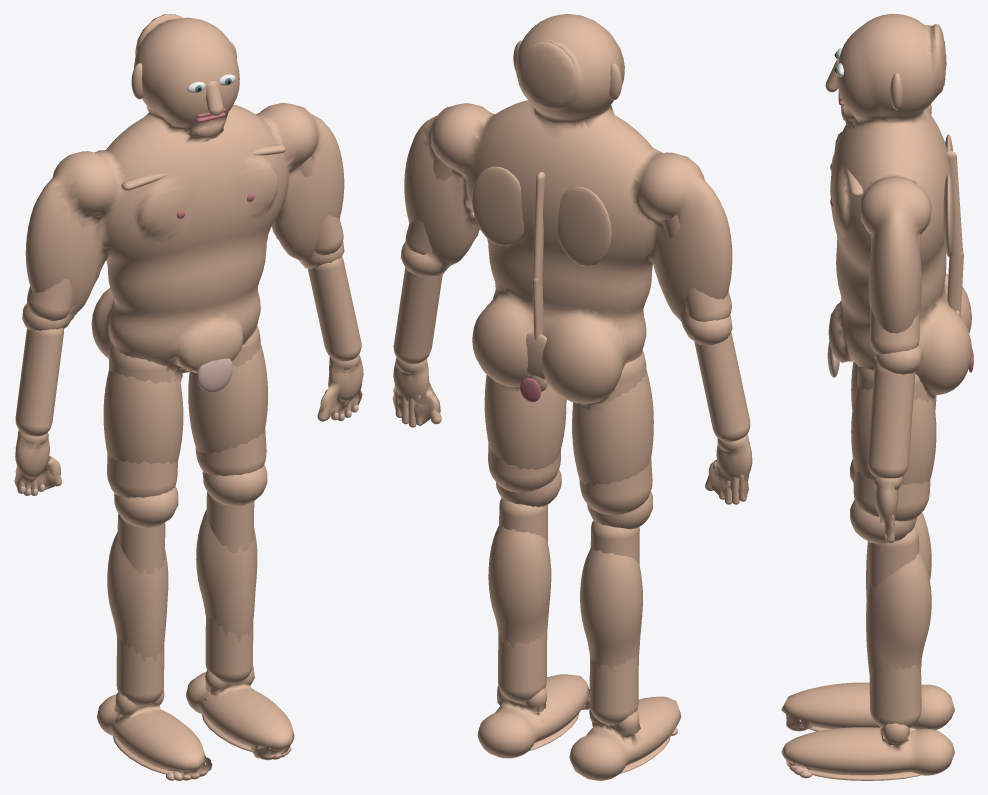
Rendered from body-jugendlicher-divers-v2.glb.
3 renders of one model, left to right at view 1: azimuth 30°, elevation 25°; view 2: azimuth 150°, elevation 25°; view 3: azimuth 270°, elevation 25°, orthographic. The views are drawn at different scales.
Visible parts, largest first — view 1: zone__visual-surface-body-jugendlicher-divers, zone__surface-lower-leg-right, zone__surface-lower-leg-left, zone__surface-forearm-left, zone__surface-thigh-left, zone__surface-forearm-right, zone__surface-thigh-right, zone__surface-upper-arm-left, zone__surface-upper-arm-right, zone__surface-genital-observation-deferred; view 2: zone__visual-surface-body-jugendlicher-divers, zone__surface-lower-leg-left, zone__surface-lower-leg-right, zone__surface-forearm-left, zone__surface-scapula-left, zone__surface-forearm-right, zone__surface-scapula-right, zone__surface-thigh-left, zone__surface-thigh-right, zone__surface-upper-arm-left, zone__surface-thoracic-spine, zone__surface-upper-arm-right (+2 smaller); view 3: zone__visual-surface-body-jugendlicher-divers, zone__surface-lower-leg-right, zone__surface-forearm-right, zone__surface-thigh-right, zone__surface-upper-arm-right, zone__surface-thoracic-spine, zone__surface-lumbar-spine, zone__surface-scapula-right, zone__surface-sole-right, zone__surface-ear-right.
Boxes of the visible parts, box(x1,y1,x2,y2) form: zone__visual-surface-body-jugendlicher-divers: box(14, 14, 363, 775); zone__surface-lower-leg-right: box(205, 492, 254, 684); zone__surface-lower-leg-left: box(116, 513, 165, 706); zone__surface-forearm-left: box(15, 328, 63, 436); zone__surface-thigh-left: box(107, 344, 178, 497); zone__surface-forearm-right: box(307, 256, 361, 361); zone__surface-thigh-right: box(195, 325, 266, 475); zone__surface-upper-arm-left: box(27, 217, 91, 320); zone__surface-upper-arm-right: box(299, 155, 343, 255); zone__surface-genital-observation-deferred: box(197, 358, 232, 392); zone__visual-surface-body-jugendlicher-divers: box(392, 14, 752, 780); zone__surface-lower-leg-left: box(589, 521, 639, 725); zone__surface-lower-leg-right: box(498, 498, 547, 702); zone__surface-forearm-left: box(694, 332, 750, 441); zone__surface-scapula-left: box(557, 186, 611, 266); zone__surface-forearm-right: box(393, 268, 442, 364); zone__surface-scapula-right: box(472, 166, 524, 246); zone__surface-thigh-left: box(579, 351, 652, 514); zone__surface-thigh-right: box(488, 443, 560, 492); zone__surface-upper-arm-left: box(662, 215, 731, 321); zone__surface-thoracic-spine: box(533, 171, 545, 284); zone__surface-upper-arm-right: box(405, 156, 452, 254); zone__visual-surface-body-jugendlicher-divers: box(781, 14, 971, 775); zone__surface-lower-leg-right: box(867, 526, 921, 727); zone__surface-forearm-right: box(867, 362, 915, 478); zone__surface-thigh-right: box(853, 366, 930, 521); zone__surface-upper-arm-right: box(870, 234, 920, 354); zone__surface-thoracic-spine: box(946, 151, 962, 260); zone__surface-lumbar-spine: box(947, 252, 963, 313); zone__surface-scapula-right: box(943, 174, 954, 256); zone__surface-sole-right: box(808, 769, 921, 780); zone__surface-ear-right: box(890, 73, 903, 110).
Bounding box in the file's own units: 0.8438 × 1.66 × 0.3967.
